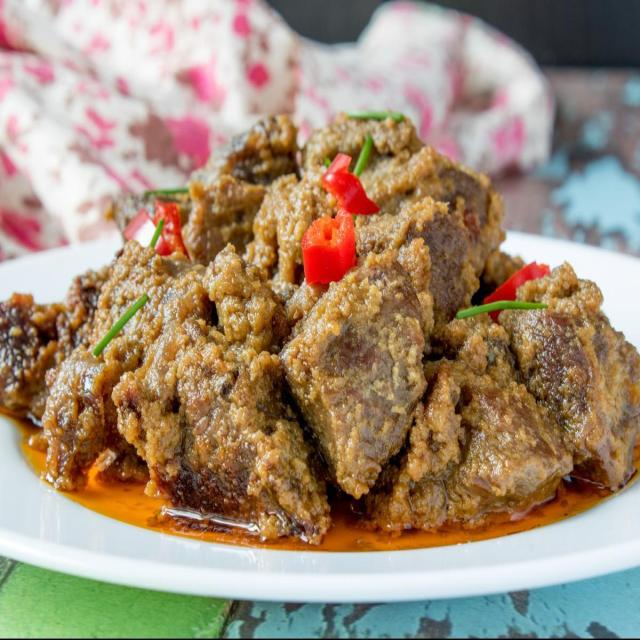Rendang: (5, 111, 640, 542)
